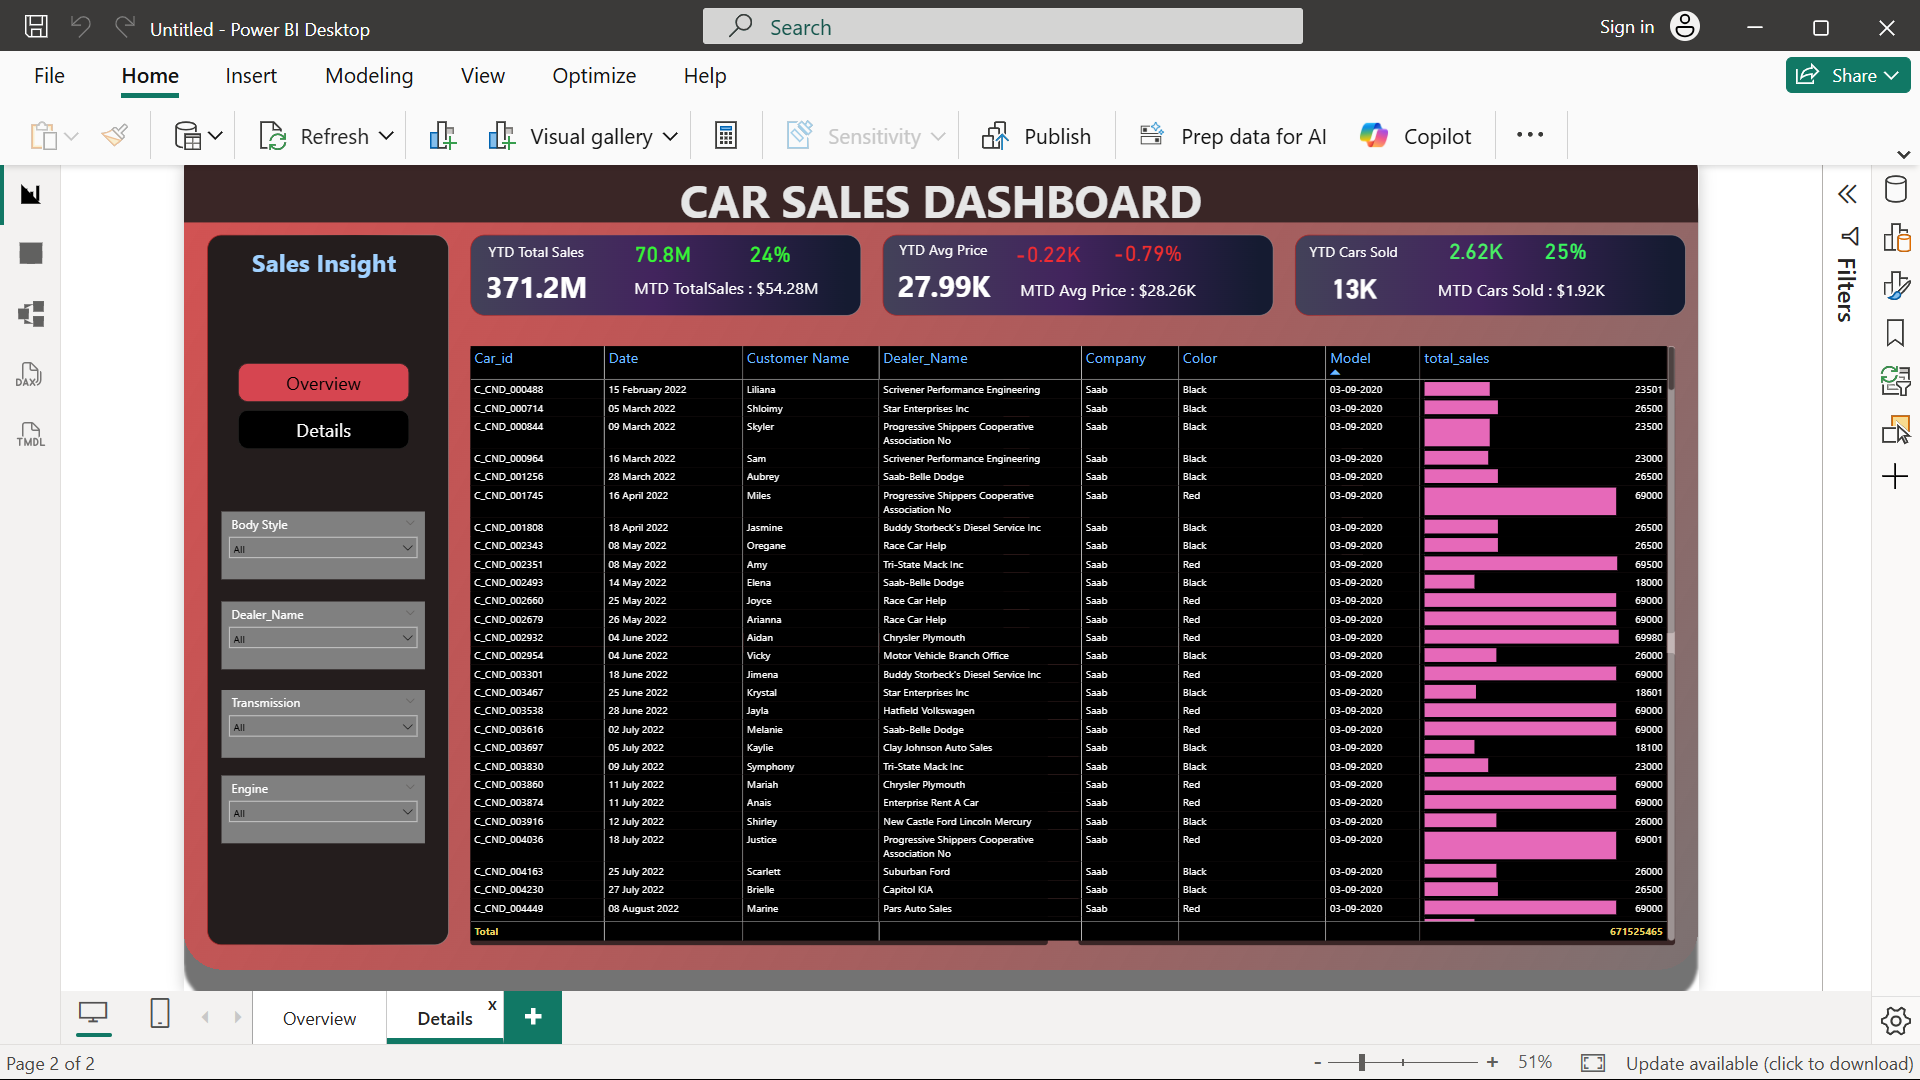

What the dashboard file says about the page in this screenshot:
{"tool":"powerbi","page":{"name":"Details","canvas":[1980,1080],"ordinal":1},"visuals":[{"type":"card","fields":{"Values":["calculation.sales_diference"]},"box":[559.1,97.7,134.1,34.1],"z":0},{"type":"card","title":"YTD Total Sales","fields":{"Values":["calculation.ytd_total_sales"]},"box":[384.1,100,152.3,93.2],"z":1000},{"type":"card","fields":{"Values":["calculation.MTD_KPI"]},"box":[559.1,131.8,300,61.4],"z":2000},{"type":"card","fields":{"Values":["calculation.YOY_Sales_Growth"]},"box":[693.2,90.9,147.7,47.7],"z":3000},{"type":"card","title":"YTD Avg Price","fields":{"Values":["calculation.YTD_Avg_Price"]},"box":[909.1,97.7,165.9,95.5],"z":4000},{"type":"card","fields":{"Values":["calculation.Avg_Difference"]},"box":[1075,86.4,109.1,56.8],"z":5000},{"type":"card","fields":{"Values":["calculation.MTD_avg"]},"box":[1075,127.3,265.9,72.7],"z":6000},{"type":"card","fields":{"Values":["calculation.YOY_Average_Growth"]},"box":[1184.1,90.9,150,45.5],"z":7000},{"type":"textbox","box":[0,0,1979.5,102.3],"z":8000},{"type":"card","title":"YTD Cars Sold","fields":{"Values":["calculation.YTD_Cars_Sold"]},"box":[1445.5,100,168.2,93.2],"z":9000},{"type":"card","fields":{"Values":["calculation.YOY_Cars_sold_growth"]},"box":[1613.6,90.9,150,40.9],"z":10000},{"type":"card","fields":{"Values":["calculation.MTD_KPI_Cars_sold"]},"box":[1613.6,129.5,268.2,70.5],"z":11000},{"type":"card","fields":{"Values":["calculation.YOY_CARS_Growth"]},"box":[1706.8,61.4,200,100],"z":12000},{"type":"tableEx","fields":{"Values":["car_data.Car_id","car_data.Date","car_data.Customer Name","car_data.Dealer_Name","car_data.Company","car_data.Color","car_data.Model","calculation.total_sales"]},"box":[368.9,230.8,1585.5,787.4],"z":16000},{"type":"slicer","fields":{"Values":["car_data.Body Style"]},"box":[50,452.3,265.9,88.6],"z":18000},{"type":"slicer","fields":{"Values":["car_data.Dealer_Name"]},"box":[50,570.5,265.9,88.6],"z":19000},{"type":"slicer","fields":{"Values":["car_data.Transmission"]},"box":[50,686.4,265.9,88.6],"z":20000},{"type":"slicer","fields":{"Values":["car_data.Engine"]},"box":[50,797.7,265.9,88.6],"z":21000},{"type":"textbox","box":[66.9,99.2,233,64.7],"z":22000},{"type":"pageNavigator","box":[70.7,258.3,224.2,112.1],"z":22001}]}

Visuals, with their boxes on the page's 1980x1080 design canvas (x1, y1, x2, y2). These are canvas units, not pixel positions in the 1920x1080 screenshot, which may show the page scaled, cropped or inside an application window:
card - calculation.sales_diference: <bbox>559, 98, 693, 132</bbox>
"YTD Total Sales" card: <bbox>384, 100, 536, 193</bbox>
card - calculation.MTD_KPI: <bbox>559, 132, 859, 193</bbox>
card - calculation.YOY_Sales_Growth: <bbox>693, 91, 841, 139</bbox>
"YTD Avg Price" card: <bbox>909, 98, 1075, 193</bbox>
card - calculation.Avg_Difference: <bbox>1075, 86, 1184, 143</bbox>
card - calculation.MTD_avg: <bbox>1075, 127, 1341, 200</bbox>
card - calculation.YOY_Average_Growth: <bbox>1184, 91, 1334, 136</bbox>
textbox: <bbox>0, 0, 1980, 102</bbox>
"YTD Cars Sold" card: <bbox>1446, 100, 1614, 193</bbox>
card - calculation.YOY_Cars_sold_growth: <bbox>1614, 91, 1764, 132</bbox>
card - calculation.MTD_KPI_Cars_sold: <bbox>1614, 130, 1882, 200</bbox>
card - calculation.YOY_CARS_Growth: <bbox>1707, 61, 1907, 161</bbox>
tableEx - car_data.Car_id x car_data.Date: <bbox>369, 231, 1954, 1018</bbox>
slicer - car_data.Body Style: <bbox>50, 452, 316, 541</bbox>
slicer - car_data.Dealer_Name: <bbox>50, 570, 316, 659</bbox>
slicer - car_data.Transmission: <bbox>50, 686, 316, 775</bbox>
slicer - car_data.Engine: <bbox>50, 798, 316, 886</bbox>
textbox: <bbox>67, 99, 300, 164</bbox>
pageNavigator: <bbox>71, 258, 295, 370</bbox>
